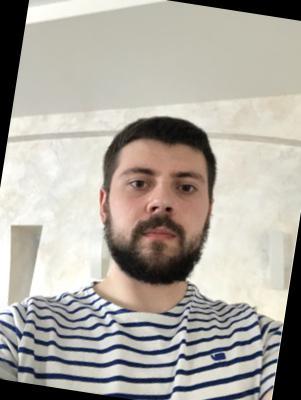without_mask: (101, 154, 219, 295)
